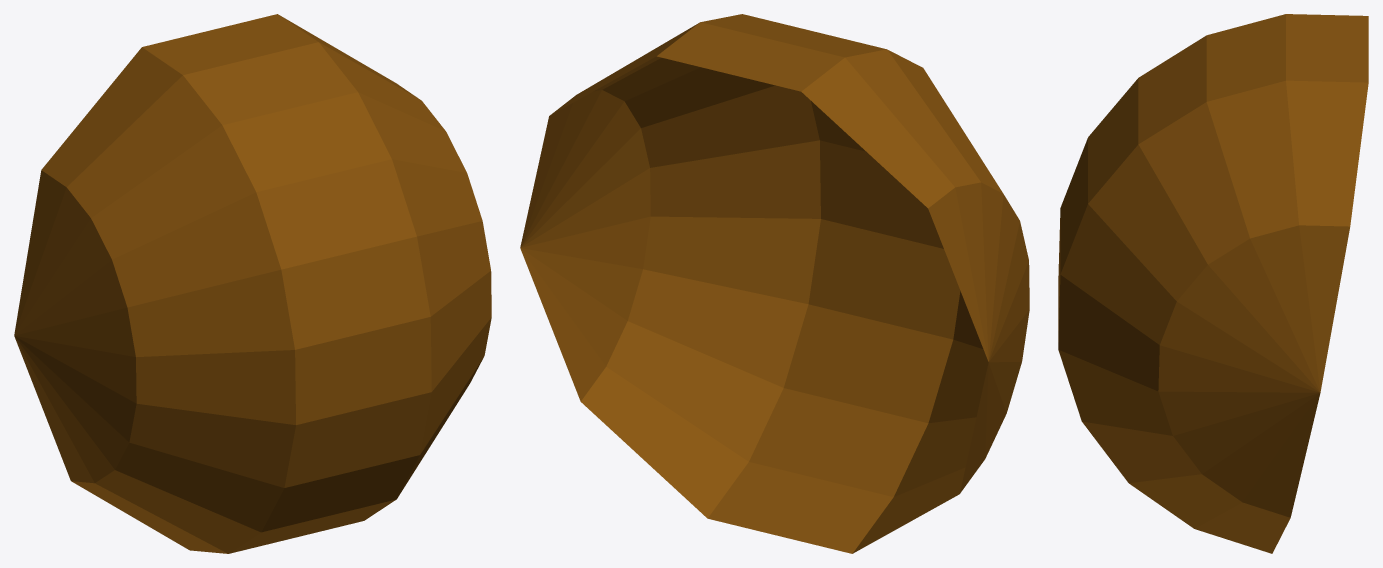
Rendered from original-38.obj.
The picture shows the model from 3 angles, left to right: view 1: azimuth 30°, elevation 25°; view 2: azimuth 150°, elevation 25°; view 3: azimuth 270°, elevation 25°; orthographic projection. The views are drawn at different scales.
Visible parts, largest first — view 1: mesh34/mesh34-geometry#mesh34-geometry; view 2: mesh34/mesh34-geometry#mesh34-geometry; view 3: mesh34/mesh34-geometry#mesh34-geometry.
Boxes of the visible parts, x1,y1,x2,y2 form: mesh34/mesh34-geometry#mesh34-geometry: (14,14,491,553); mesh34/mesh34-geometry#mesh34-geometry: (520,14,1029,553); mesh34/mesh34-geometry#mesh34-geometry: (1058,14,1368,553).
Size of the model in its own units: 0.0338 by 0.0346 by 0.0206.
